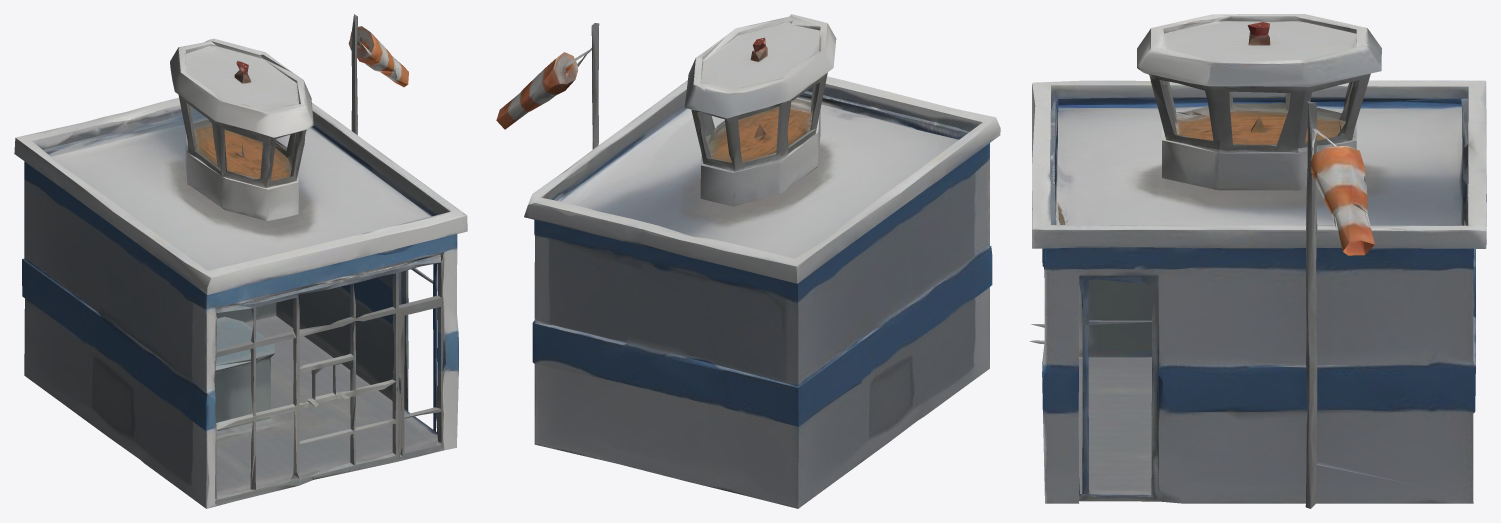
The model's file is aero_quiosque.glb.
The picture shows the model from 3 angles, left to right: view 1: azimuth 30°, elevation 25°; view 2: azimuth 150°, elevation 25°; view 3: azimuth 270°, elevation 25°; orthographic projection. The views are drawn at different scales.
Parts seen in each view (by area): view 1: tripo_node_6a5c6a5a-4fd7-409e-812b-c74569726397; view 2: tripo_node_6a5c6a5a-4fd7-409e-812b-c74569726397; view 3: tripo_node_6a5c6a5a-4fd7-409e-812b-c74569726397.
Boxes of the visible parts, box(x1,y1,x2,y2) form: tripo_node_6a5c6a5a-4fd7-409e-812b-c74569726397: box(14, 14, 467, 508); tripo_node_6a5c6a5a-4fd7-409e-812b-c74569726397: box(496, 14, 1000, 508); tripo_node_6a5c6a5a-4fd7-409e-812b-c74569726397: box(1029, 14, 1486, 508).
Size of the model in its own units: 0.9999 by 0.9855 by 0.9999.
1 material, 1 textured.
